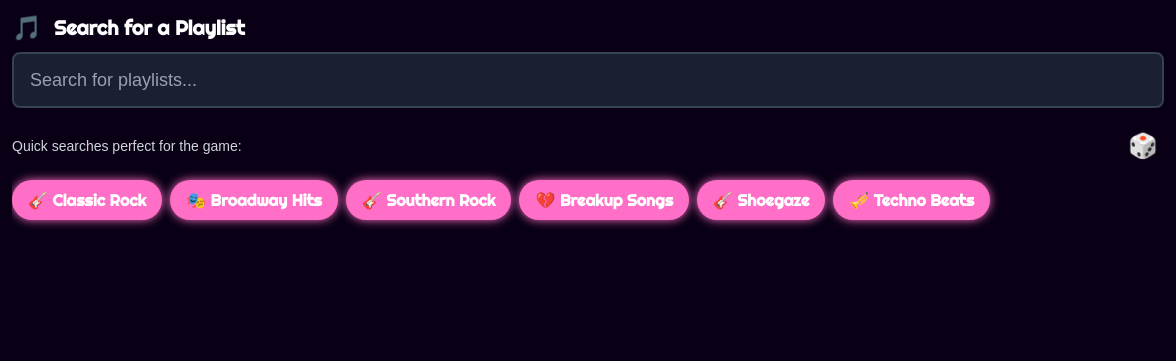
Test: PlaylistSearch › displays results after search
Type "rock" into the field with placeholder "Search for playlists..." at (588, 80), box [12,52,1164,108]
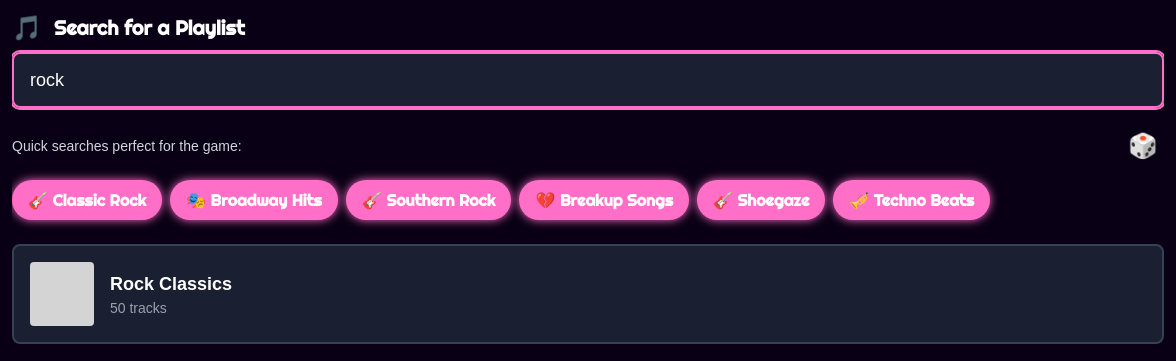
Now the heading "Rock Classics" is shown, box [110,270,232,298]
